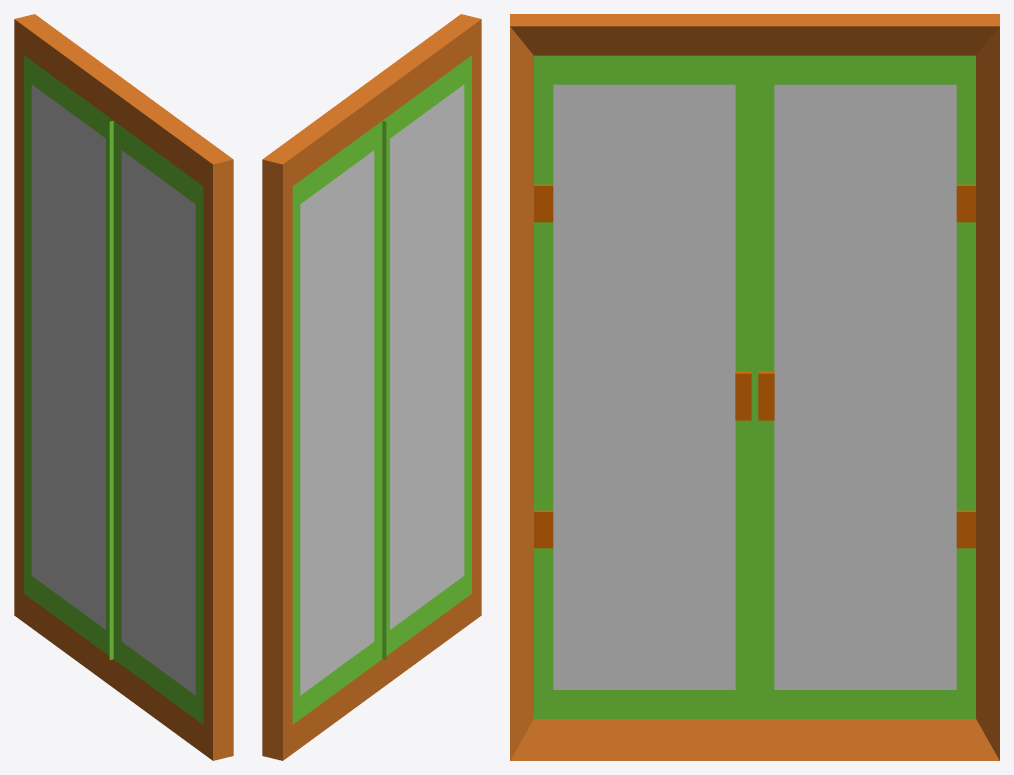
File: window.fbx
3 views of the same model, side by side, from view 1: azimuth 30°, elevation 25°; view 2: azimuth 150°, elevation 25°; view 3: azimuth 270°, elevation 25° (orthographic). The views are drawn at different scales.
Visible parts, largest first — view 1: Plane; view 2: Plane; view 3: Plane, Plane.003, Plane.001, Plane.002.
Part boxes in pixels (x1,y1,x2,y2): Plane: (14,14,233,760); Plane: (262,14,481,760); Plane: (510,14,999,760); Plane.003: (735,371,774,420); Plane.001: (534,184,975,222); Plane.002: (534,510,975,548).
Size of the model in its own units: 14.31 by 331 by 200.
